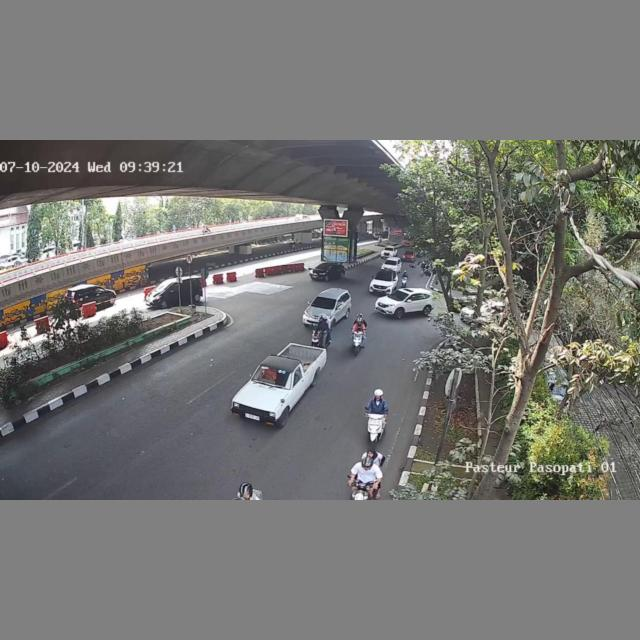windshield: (253, 364, 294, 387), (311, 296, 337, 310), (387, 287, 408, 302), (375, 273, 393, 282)
